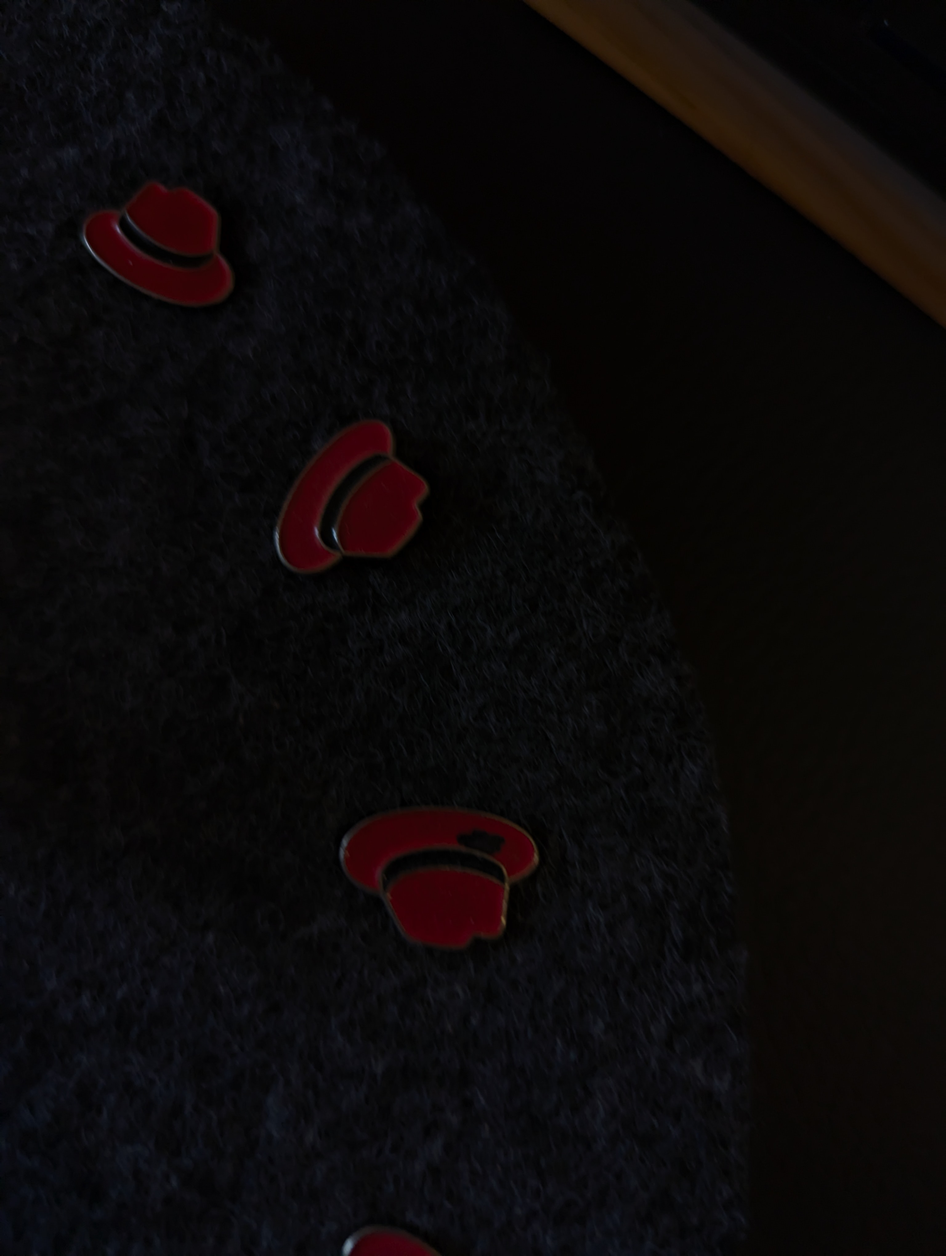Red-Hat: (292, 778, 590, 968), (215, 382, 464, 598), (60, 158, 288, 334)
Scratch: (451, 812, 509, 866)
